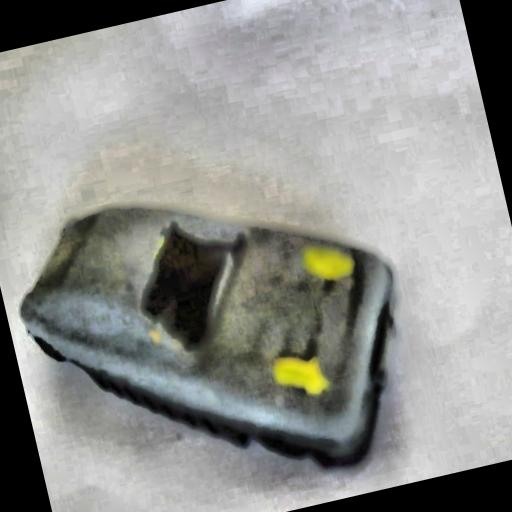normal_car: (0, 143, 431, 512)
